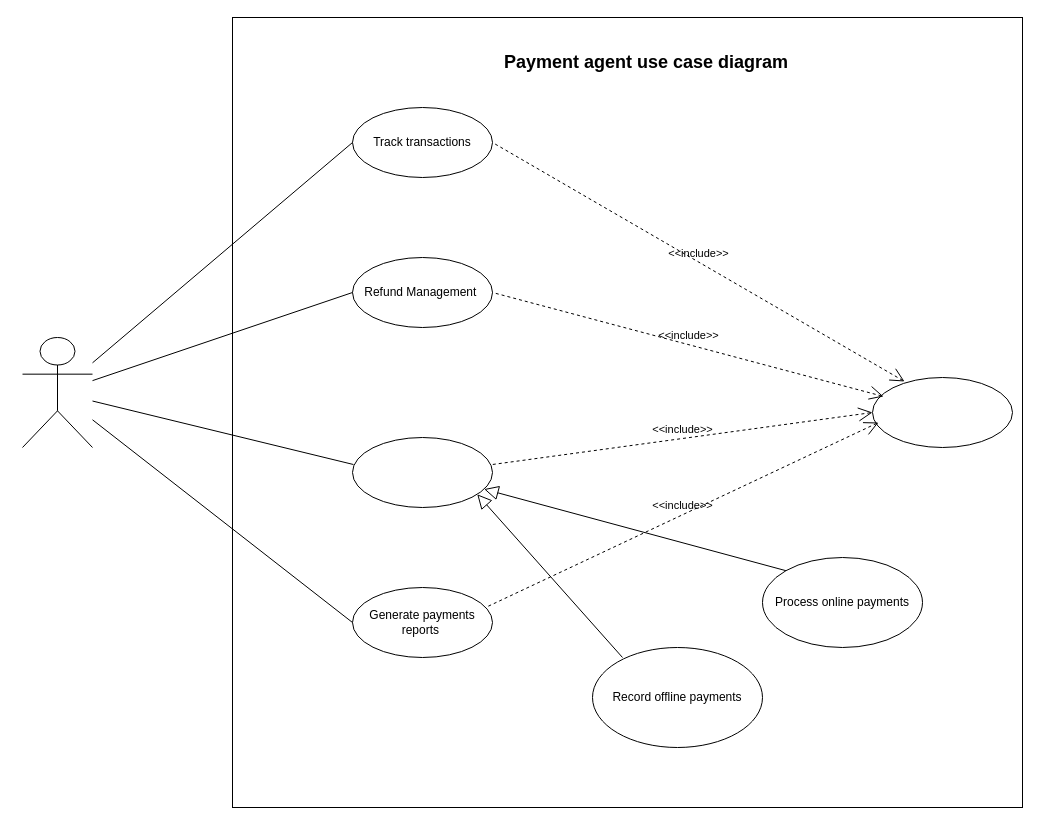
Image size: 1040x825. Some labels were removed from this diagram. Each missing label, with the box of its shape:
Authentication: (872, 376, 1012, 448)
Manage payments: (352, 436, 492, 508)
Payment agent: (22, 336, 92, 448)
